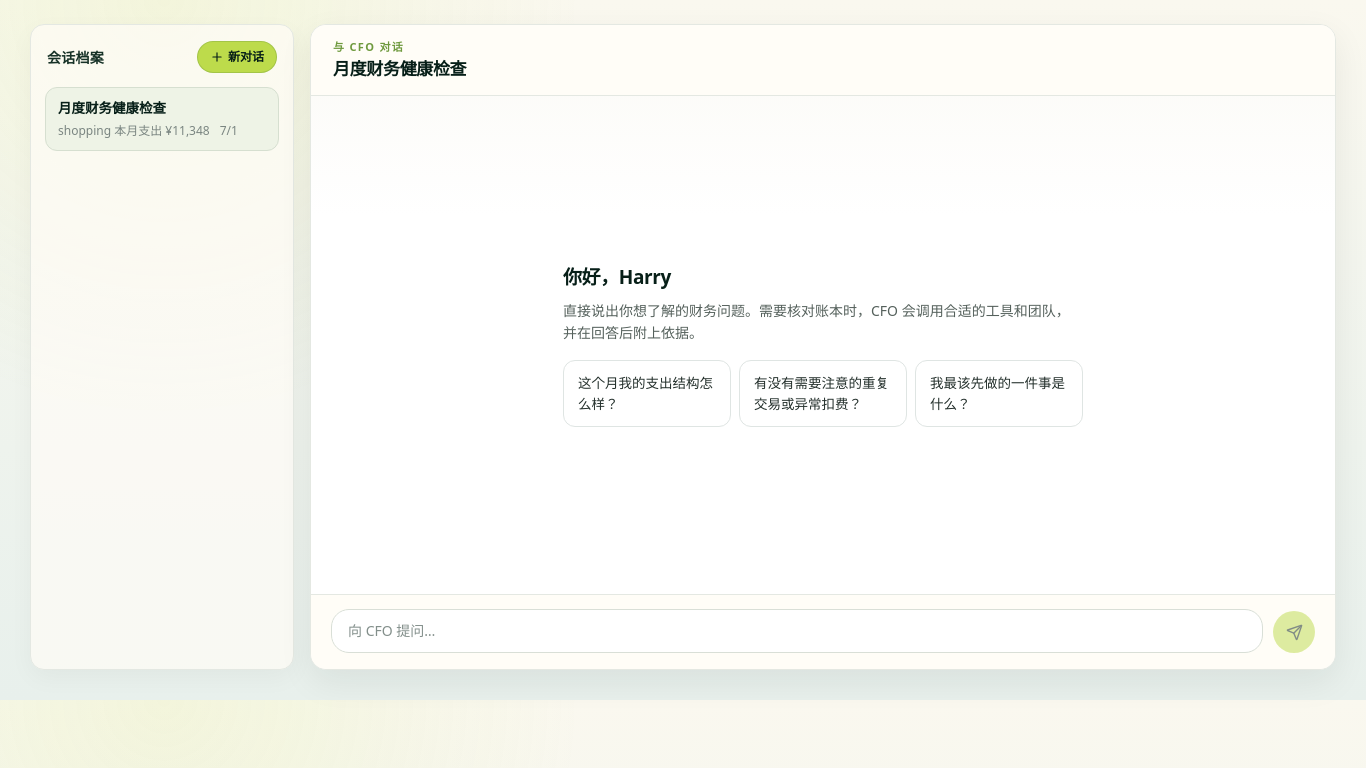
Test case: MyOfficePage › keeps ordinary CFO replies free of evidence and team controls
Expected: the text "直接说出你想了解的财务问题。需要核对账本时，CFO 会调用合适的工具和团队，并在回答后附上依据。" is shown, [563,300,1083,344]
Type "你好" into the text box with placeholder "向 CFO 提问…" at (797, 631), box [331,609,1263,653]
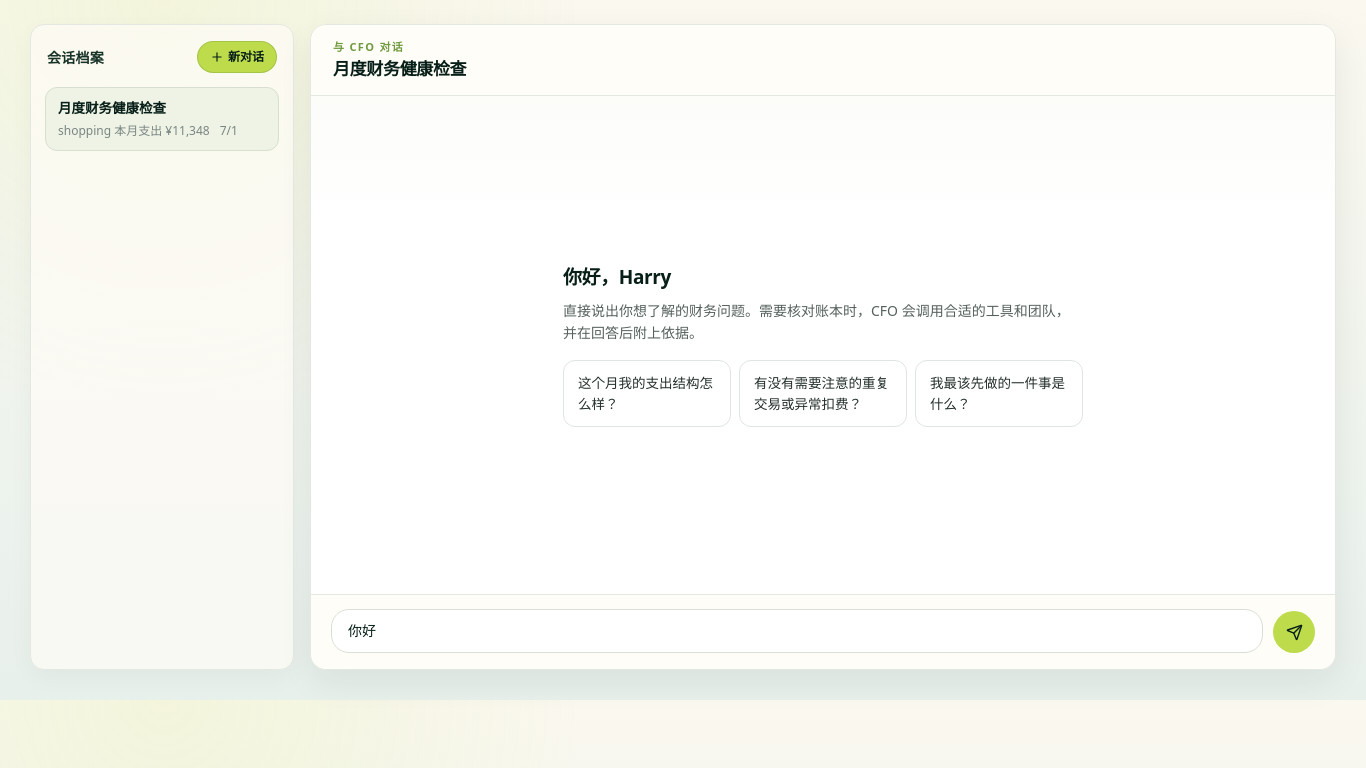
Click the button titled "发送" at (1294, 632), box [1273,611,1315,653]
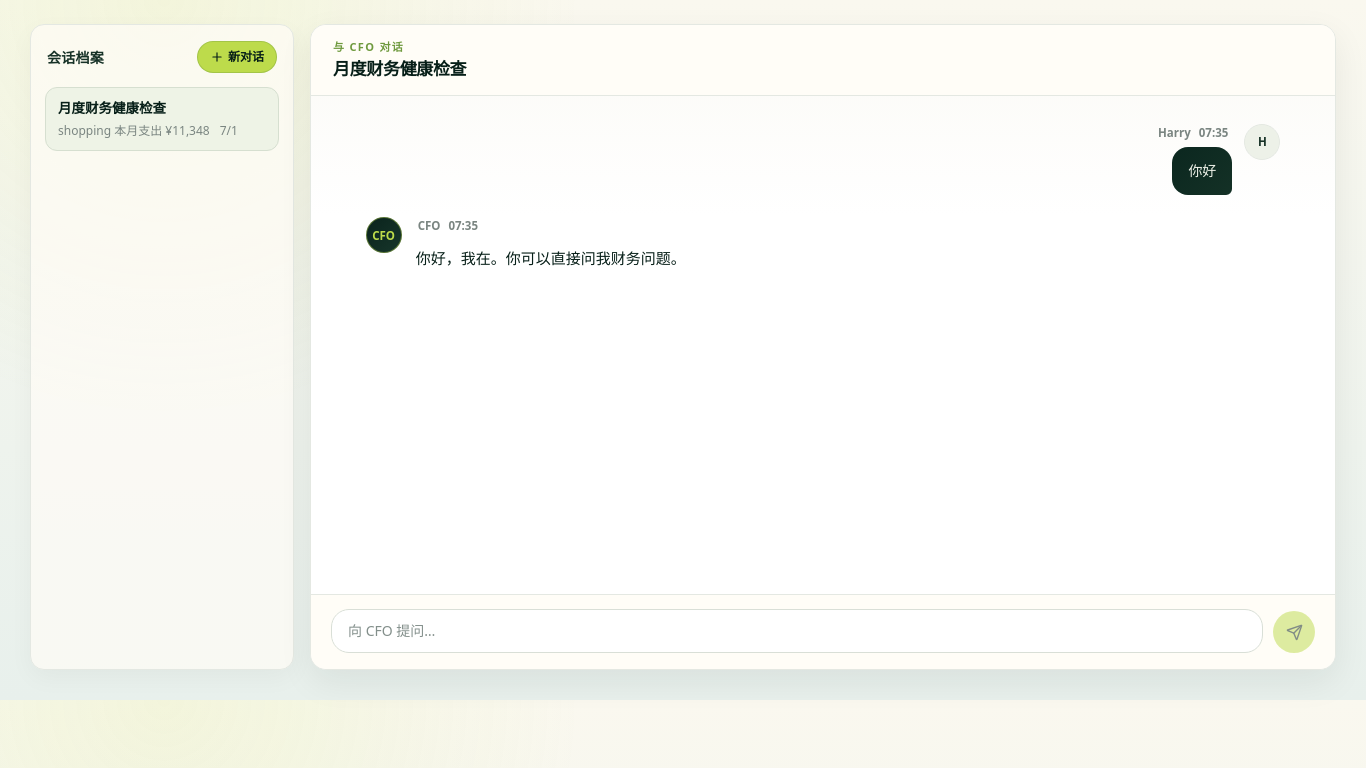
Result: the text "你好，我在。你可以直接问我财务问题。" is shown at [416,246,686,271]
